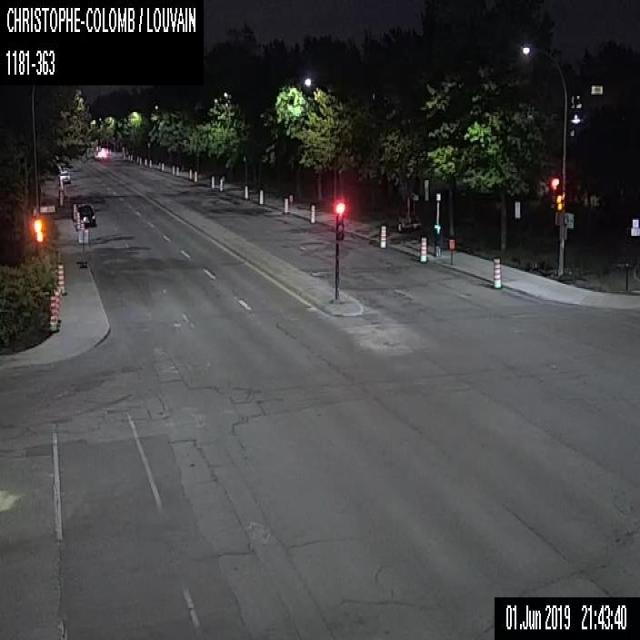construction: (77, 228, 88, 266), (49, 295, 58, 332), (492, 257, 501, 288), (57, 263, 66, 294), (52, 290, 59, 326), (419, 236, 426, 262), (56, 286, 61, 321), (379, 224, 386, 247), (308, 203, 316, 223), (448, 239, 454, 264), (282, 196, 289, 213), (56, 184, 61, 202), (258, 189, 263, 205), (76, 210, 80, 229), (243, 185, 248, 200), (72, 202, 76, 220), (59, 189, 63, 206), (218, 178, 223, 191), (210, 174, 214, 187), (188, 168, 192, 180), (193, 170, 197, 182), (79, 220, 84, 228), (171, 164, 174, 174), (176, 166, 178, 176), (149, 158, 151, 167), (144, 157, 146, 166), (158, 160, 160, 168), (136, 155, 138, 163), (161, 162, 163, 170), (139, 156, 141, 164), (122, 152, 124, 159), (128, 154, 130, 160), (130, 154, 132, 160)
vehicle: (76, 201, 94, 224), (57, 169, 70, 183)
